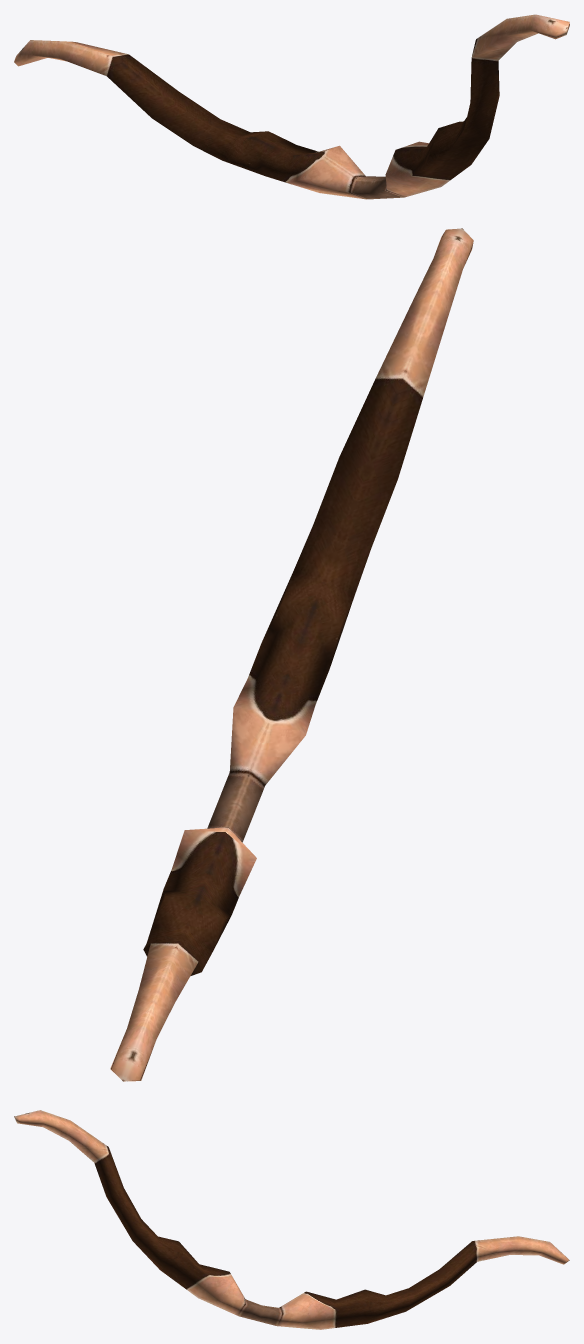
File: bow-copperweapons.glb
The picture shows the model from 3 angles, top to bottom: view 1: azimuth 30°, elevation 25°; view 2: azimuth 150°, elevation 25°; view 3: azimuth 270°, elevation 25°; orthographic projection. The views are drawn at different scales.
Size of the model in its own units: 0.3594 by 0.6222 by 1.39.
1 material, 1 textured.
